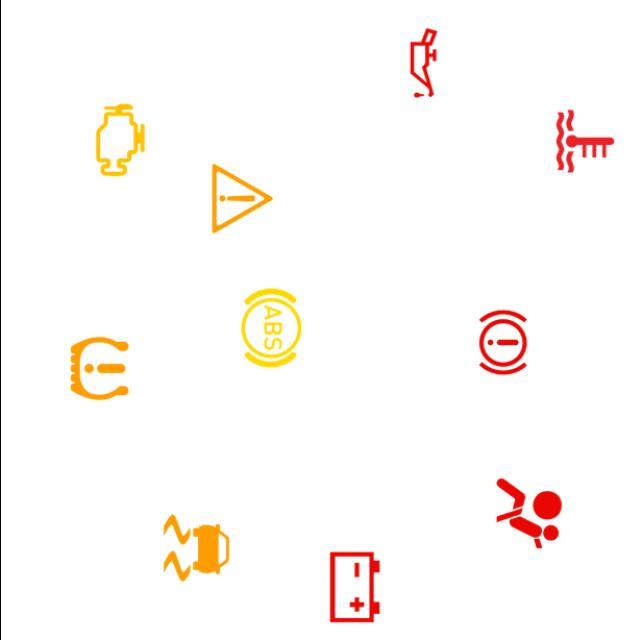Anti Lock Braking System: (228, 285, 314, 371)
Braking System Issue: (459, 300, 545, 386)
Charging System Issue: (311, 544, 397, 630)
Check Engine: (76, 97, 162, 183)
Electronic Stability Problem -ESP-: (152, 505, 238, 591)
Engine Overheating Warning Light: (541, 98, 627, 184)
Low Engine Oil Warning Light: (380, 20, 466, 106)
Low Tire Pressure Warning Light: (56, 326, 142, 412)
Master warning light: (198, 156, 284, 242)
SRS-Airbag: (485, 470, 571, 557)
